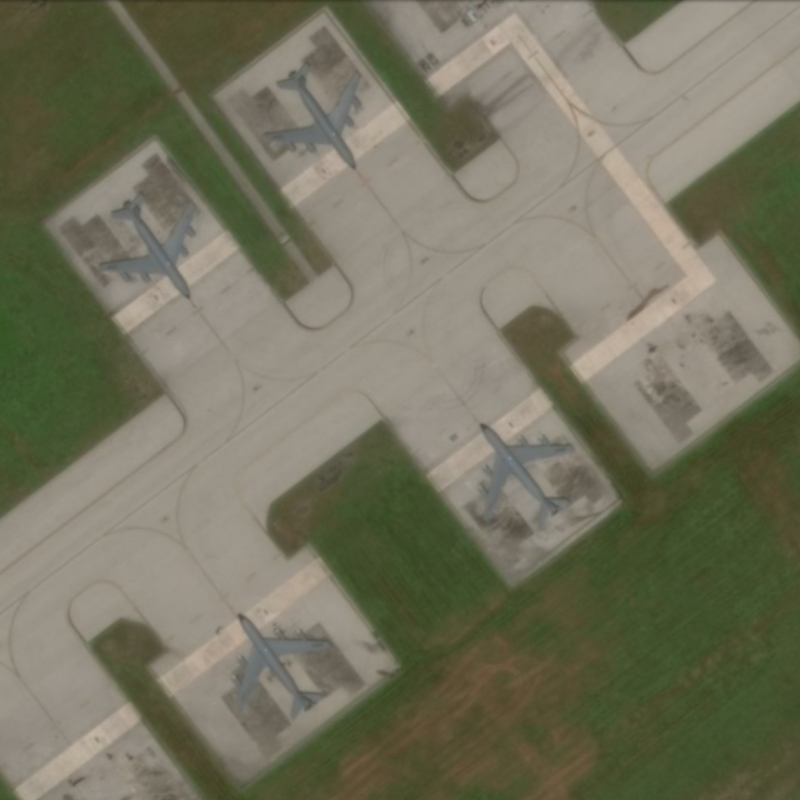A14: (258, 58, 371, 175), (94, 188, 207, 305), (228, 607, 337, 724), (477, 415, 579, 525)
